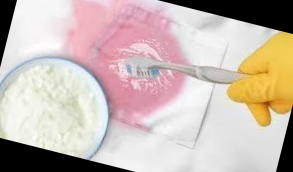wine: (65, 0, 179, 73), (111, 74, 184, 133), (161, 37, 197, 65), (95, 55, 118, 80), (173, 81, 182, 91)
